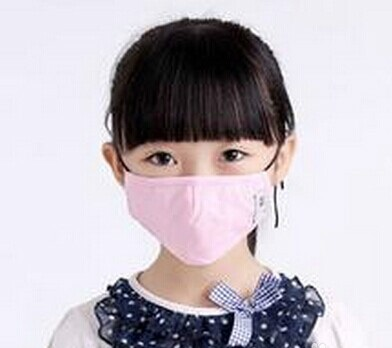face_mask: (127, 101, 270, 266)
